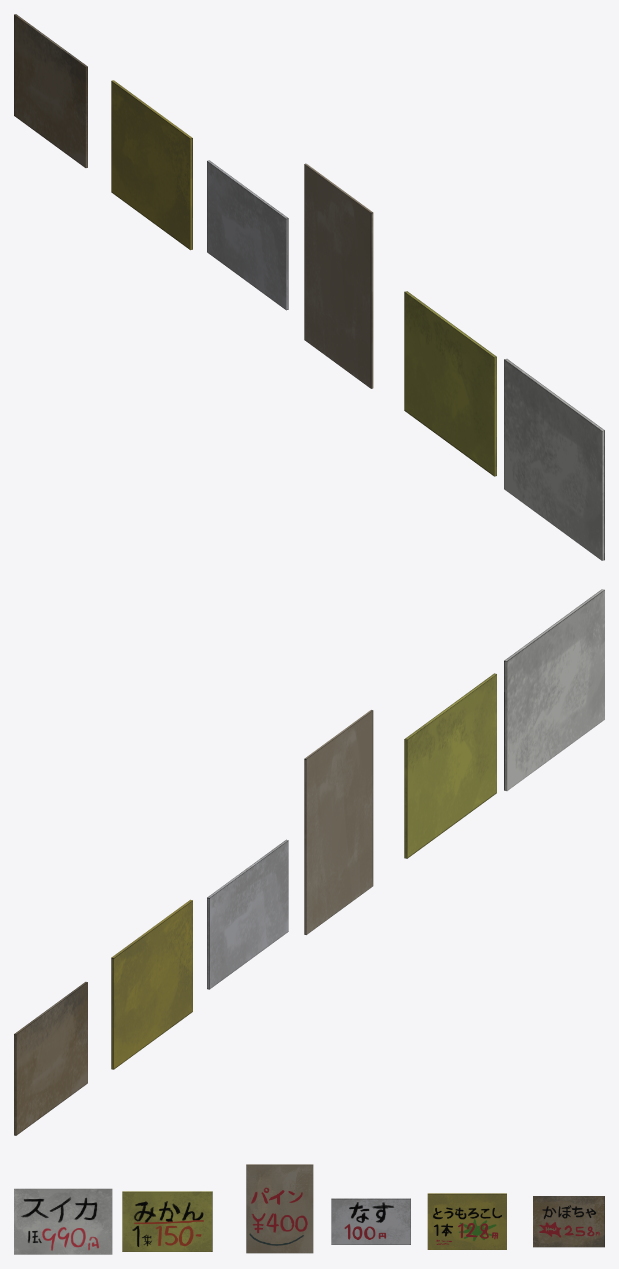
3 renders of one model, top to bottom at view 1: azimuth 30°, elevation 25°; view 2: azimuth 150°, elevation 25°; view 3: azimuth 270°, elevation 25°, orthographic. The views are drawn at different scales.
Parts seen in each view (by area): view 1: Cube, Cube.002, Cube.001, Cube.004, Cube.003, Cube.005; view 2: Cube, Cube.002, Cube.001, Cube.004, Cube.003, Cube.005; view 3: Cube, Cube.002, Cube.001, Cube.004, Cube.003, Cube.005.
Part boxes in pixels (x1=…): Cube: x1=504, y1=359, x2=604, y2=560; Cube.002: x1=304, y1=163, x2=373, y2=388; Cube.001: x1=404, y1=291, x2=496, y2=476; Cube.004: x1=111, y1=80, x2=192, y2=250; Cube.003: x1=207, y1=160, x2=288, y2=310; Cube.005: x1=14, y1=14, x2=87, y2=167; Cube: x1=504, y1=589, x2=604, y2=790; Cube.002: x1=304, y1=710, x2=373, y2=934; Cube.001: x1=404, y1=673, x2=496, y2=858; Cube.004: x1=111, y1=899, x2=192, y2=1069; Cube.003: x1=207, y1=839, x2=288, y2=989; Cube.005: x1=14, y1=982, x2=87, y2=1135; Cube: x1=14, y1=1188, x2=112, y2=1254; Cube.002: x1=246, y1=1164, x2=313, y2=1253; Cube.001: x1=122, y1=1191, x2=212, y2=1251; Cube.004: x1=427, y1=1193, x2=506, y2=1249; Cube.003: x1=331, y1=1198, x2=410, y2=1244; Cube.005: x1=533, y1=1196, x2=604, y2=1247.
Bounding box in the file's own units: 4.43 × 253 × 1514.
